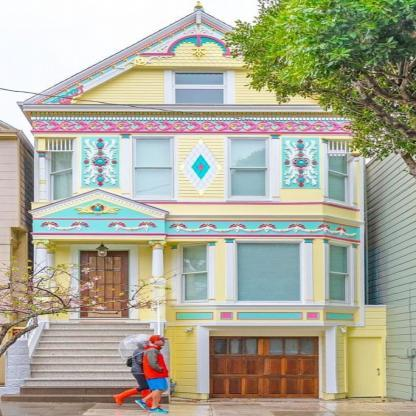Building Outline: (0, 0, 387, 404)
Cornice: (28, 189, 168, 219)
Dont: (223, 0, 415, 178), (0, 256, 181, 359), (111, 333, 171, 414)
Door: (211, 336, 320, 398), (80, 251, 129, 319), (347, 338, 383, 398)
Facade: (34, 104, 365, 398)
Molding: (32, 14, 358, 104), (29, 111, 369, 134), (33, 219, 361, 242)
Pillar: (32, 239, 52, 322), (148, 240, 167, 323)
Window: (236, 241, 302, 303), (229, 137, 269, 199), (133, 137, 173, 199), (173, 71, 227, 104), (181, 242, 207, 304), (50, 141, 74, 202), (328, 142, 350, 204), (329, 243, 350, 305)
